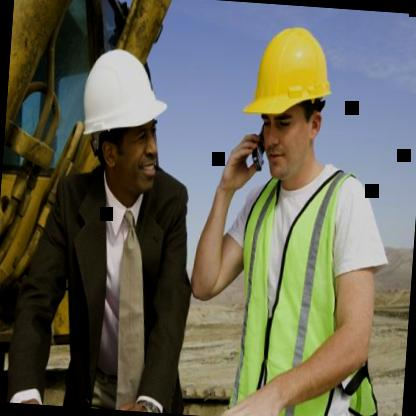helmet: (235, 2, 349, 194), (64, 33, 182, 214)
